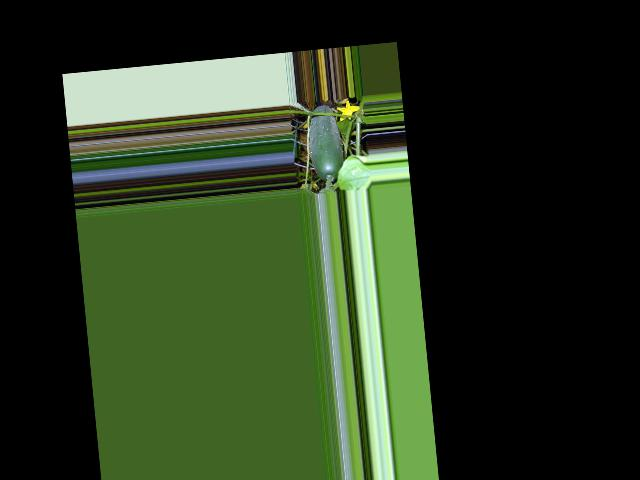cucumber: (305, 104, 345, 183)
